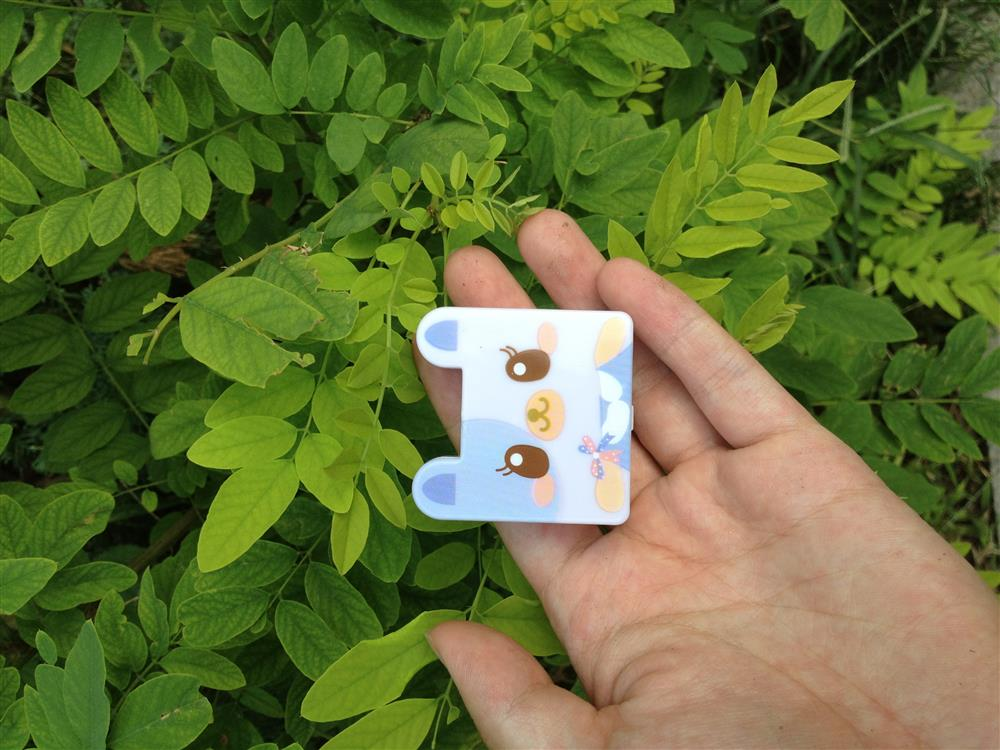dog_sharpener: (412, 307, 632, 525)
